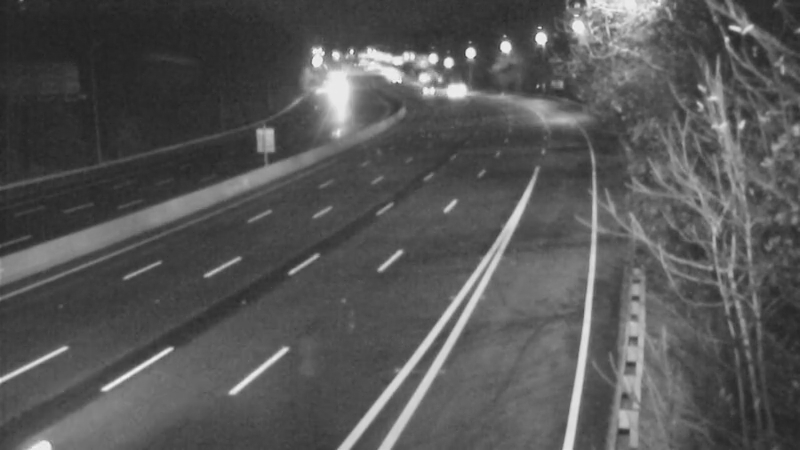vehicle: (403, 65, 453, 115), (430, 65, 480, 115), (315, 65, 365, 115)
